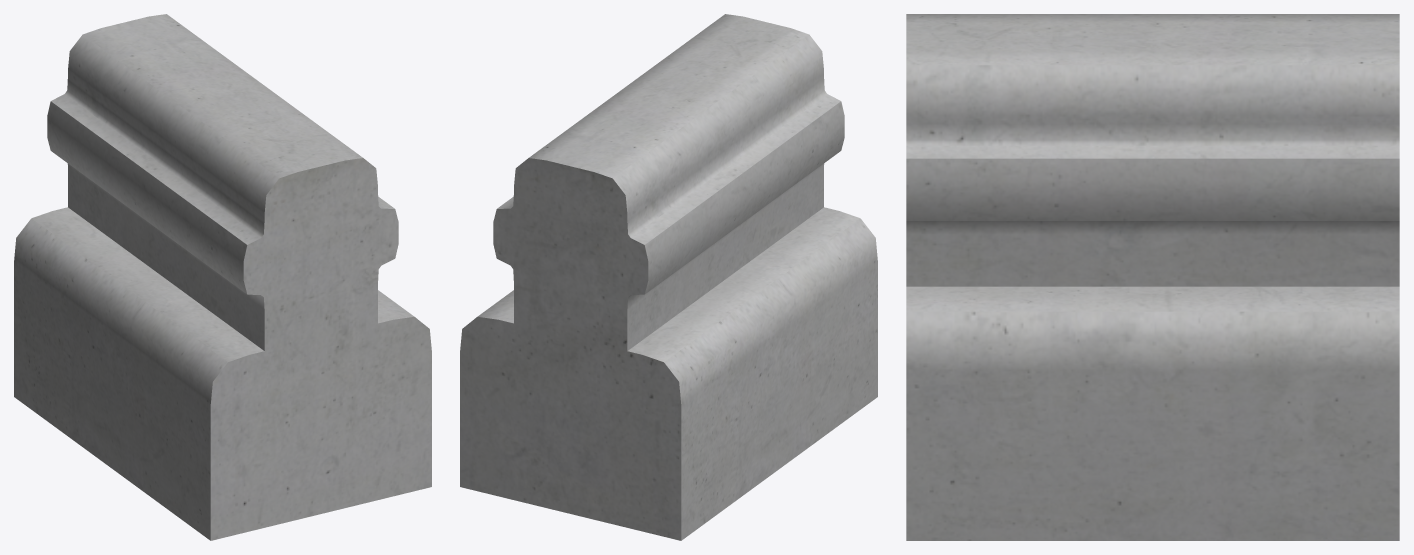
File: ConcreteSafetyStraight.fbx
3 views of the same model, side by side, from view 1: azimuth 30°, elevation 25°; view 2: azimuth 150°, elevation 25°; view 3: azimuth 270°, elevation 25° (orthographic). The views are drawn at different scales.
Visible parts, largest first — view 1: ConcreteSafetyStraight; view 2: ConcreteSafetyStraight; view 3: ConcreteSafetyStraight.
Boxes of the visible parts, <box> form: ConcreteSafetyStraight: <box>14,14,431,540</box>; ConcreteSafetyStraight: <box>460,14,877,540</box>; ConcreteSafetyStraight: <box>906,14,1399,540</box>.
Size of what is drawn, in the model's own units: 64.91 by 97.53 by 100.
